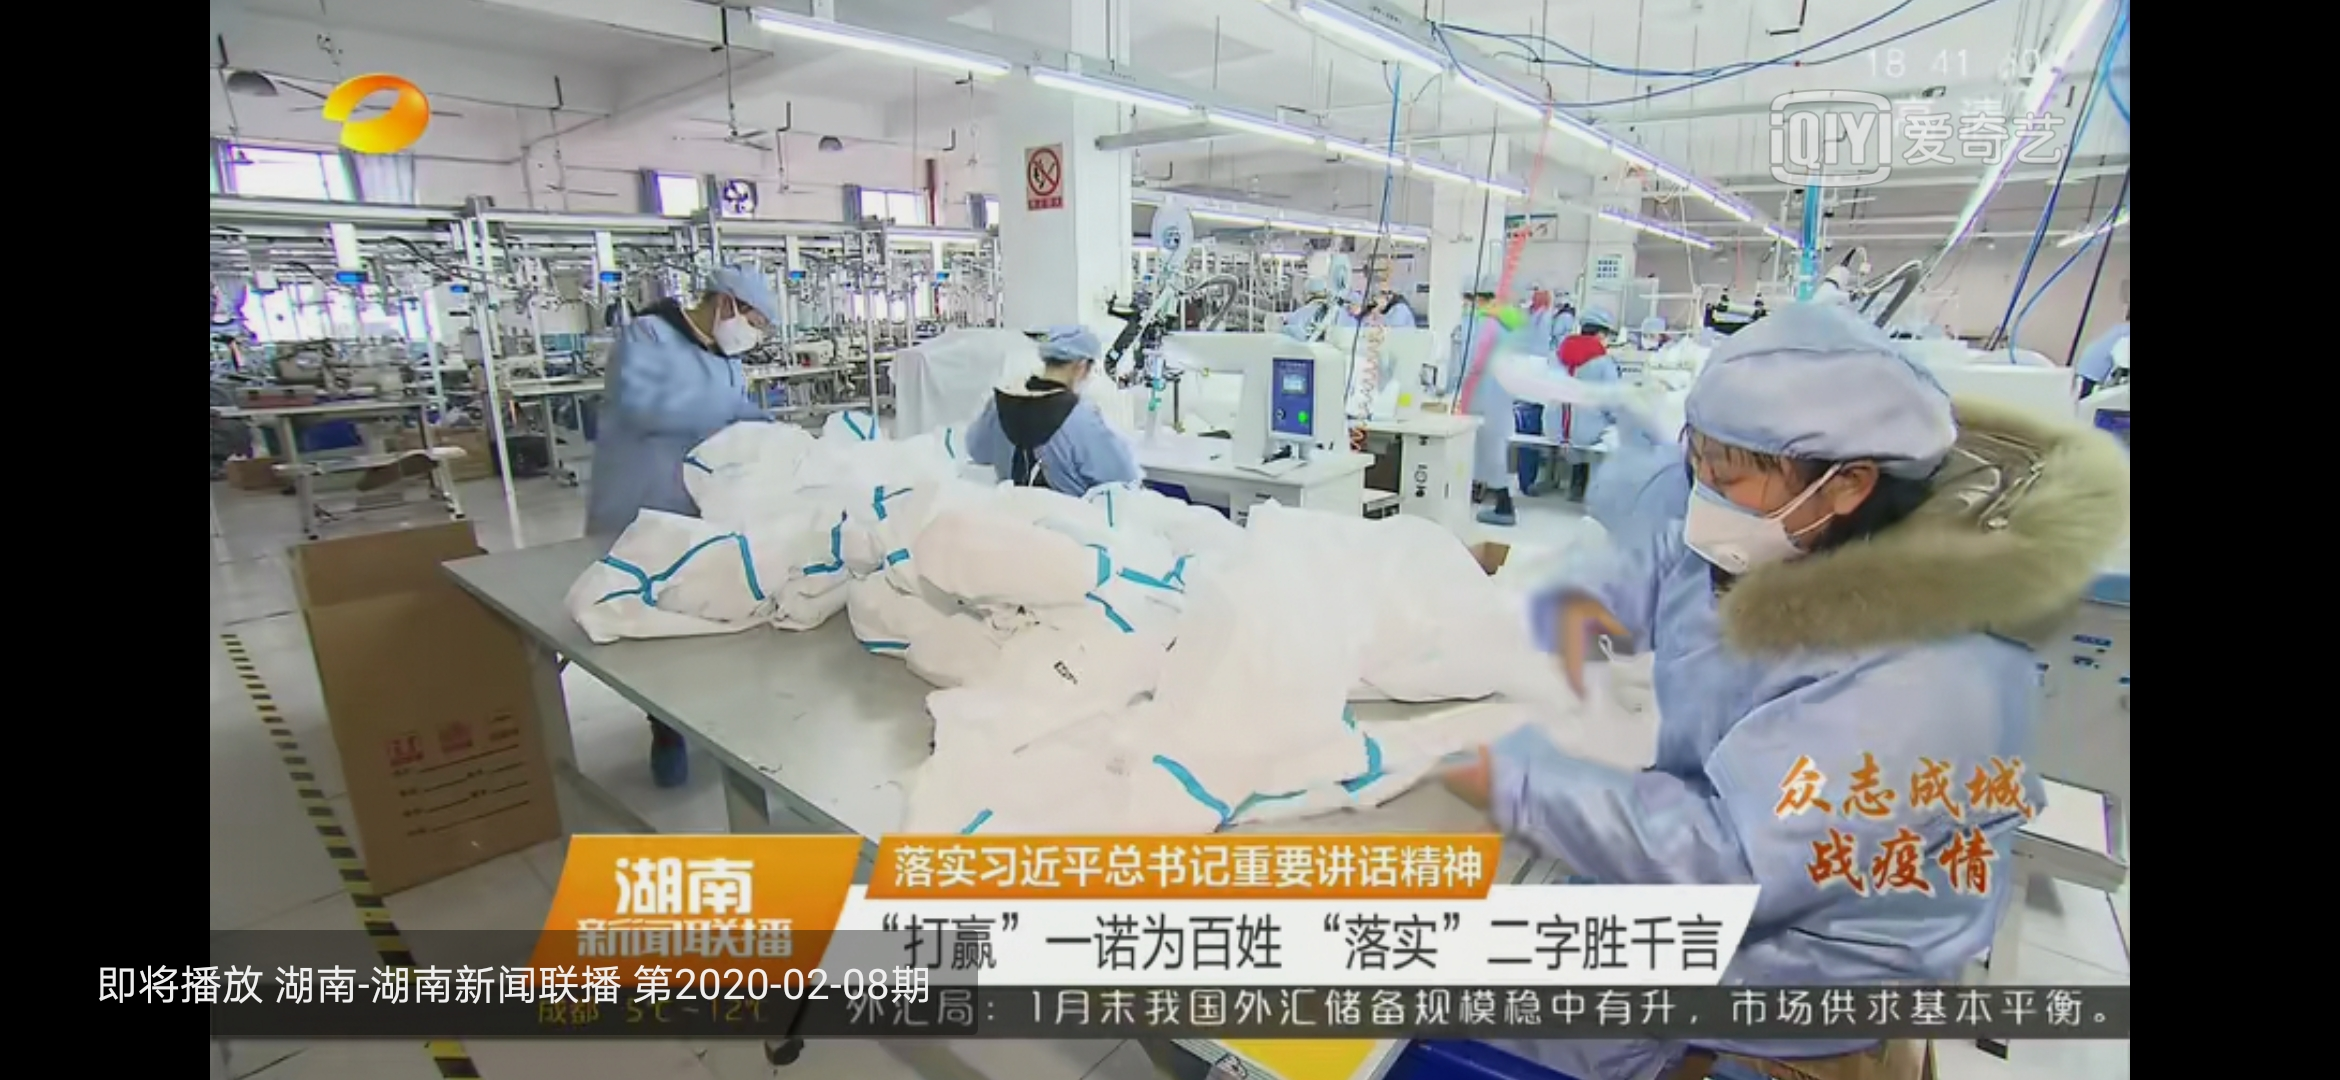correctlyWear: (1674, 406, 1880, 571), (710, 289, 779, 360)
